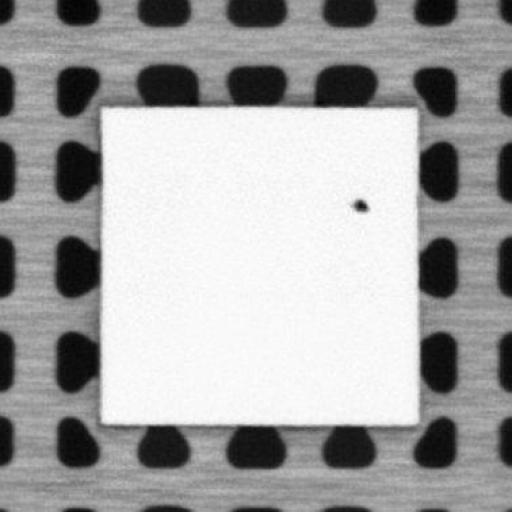DIE_INK: (347, 192, 368, 217)
